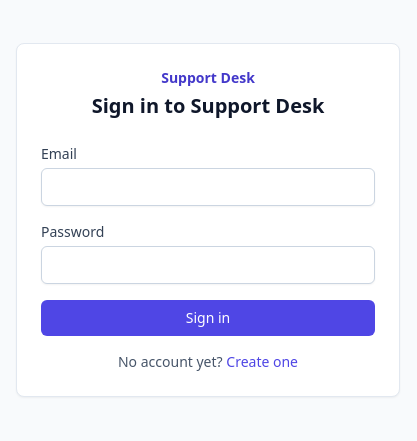
Test: LoginPage › shows the error returned by the API
The width and height of the screenshot is (417, 441).
Type "jane@example.com" into the field labelled "Email".
click(208, 187); type("jane@example.com")  # box top-left (41, 168), bottom-right (375, 206)
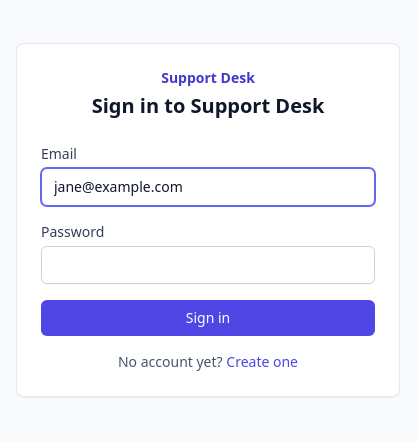
Type "wrong-password" into the password field labelled "Password".
click(208, 265); type("wrong-password")  # box top-left (41, 246), bottom-right (375, 284)
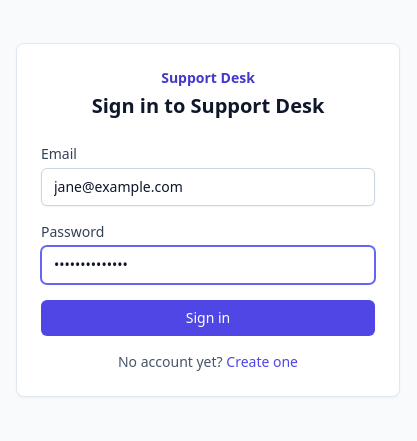
Click the button "Sign in".
click(208, 318)  # box top-left (41, 300), bottom-right (375, 336)
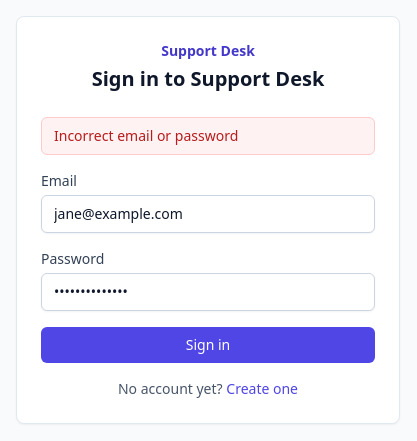
Expected: the message reads "Incorrect email or password", top-left (54, 126), bottom-right (238, 145)
